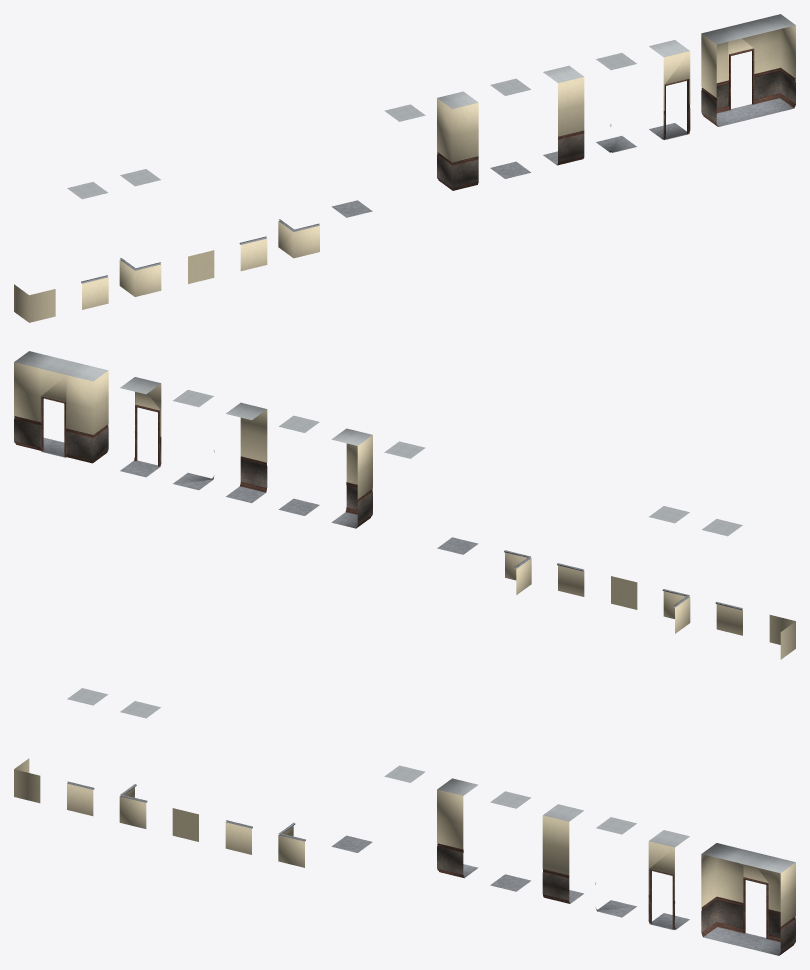
Rendered from sun tiles.glb.
The picture shows the model from 3 angles, top to bottom: view 1: azimuth 30°, elevation 25°; view 2: azimuth 150°, elevation 25°; view 3: azimuth 330°, elevation 25°; orthographic projection.
Visible parts, largest first — view 1: doorwayop-col, cornerin-col, wall-col, doorway-col, holecornertop-col, holecorner-col, holeedgetop-col, holewallcor-col, cornerout-col, floor-col, holeedge-col, holewall-col; view 2: doorwayop-col, wall-col, cornerin-col, doorway-col, holecornertop-col, holeedgetop-col, holewallcor-col, holecorner-col, cornerout-col, floor-col, holewall-col, holeedge-col; view 3: doorwayop-col, wall-col, cornerin-col, doorway-col, holecornertop-col, holeedgetop-col, holecorner-col, holewallcor-col, floor-col, cornerout-col, holeedge-col, holewall-col.
Boxes of the visible parts, <box> form: doorwayop-col: <box>701,14,795,126</box>; cornerin-col: <box>437,91,478,190</box>; wall-col: <box>543,65,584,165</box>; doorway-col: <box>649,40,690,139</box>; holecornertop-col: <box>119,169,161,296</box>; holecorner-col: <box>278,219,319,258</box>; holeedgetop-col: <box>67,182,108,309</box>; holewallcor-col: <box>14,284,55,322</box>; cornerout-col: <box>596,53,636,152</box>; floor-col: <box>490,78,530,178</box>; holeedge-col: <box>239,236,267,270</box>; holewall-col: <box>188,250,214,283</box>; doorwayop-col: <box>14,351,108,463</box>; wall-col: <box>226,402,267,503</box>; cornerin-col: <box>331,428,372,528</box>; doorway-col: <box>120,377,161,477</box>; holecornertop-col: <box>649,506,690,633</box>; holeedgetop-col: <box>702,519,742,635</box>; holewallcor-col: <box>769,615,795,659</box>; holecorner-col: <box>504,550,531,594</box>; cornerout-col: <box>173,390,214,490</box>; floor-col: <box>278,415,319,515</box>; holewall-col: <box>611,576,637,609</box>; holeedge-col: <box>557,563,584,596</box>; doorwayop-col: <box>701,843,795,955</box>; wall-col: <box>542,804,583,903</box>; cornerin-col: <box>437,778,478,878</box>; doorway-col: <box>648,830,689,930</box>; holecornertop-col: <box>119,701,160,828</box>; holeedgetop-col: <box>67,688,108,815</box>; holecorner-col: <box>278,822,305,867</box>; holewallcor-col: <box>14,758,40,803</box>; floor-col: <box>490,791,530,891</box>; cornerout-col: <box>595,817,636,917</box>; holeedge-col: <box>225,820,252,854</box>; holewall-col: <box>172,808,198,841</box>.
Size of the model in its own units: 29 by 4 by 1.
Materials: 5 (5 with a texture image).
